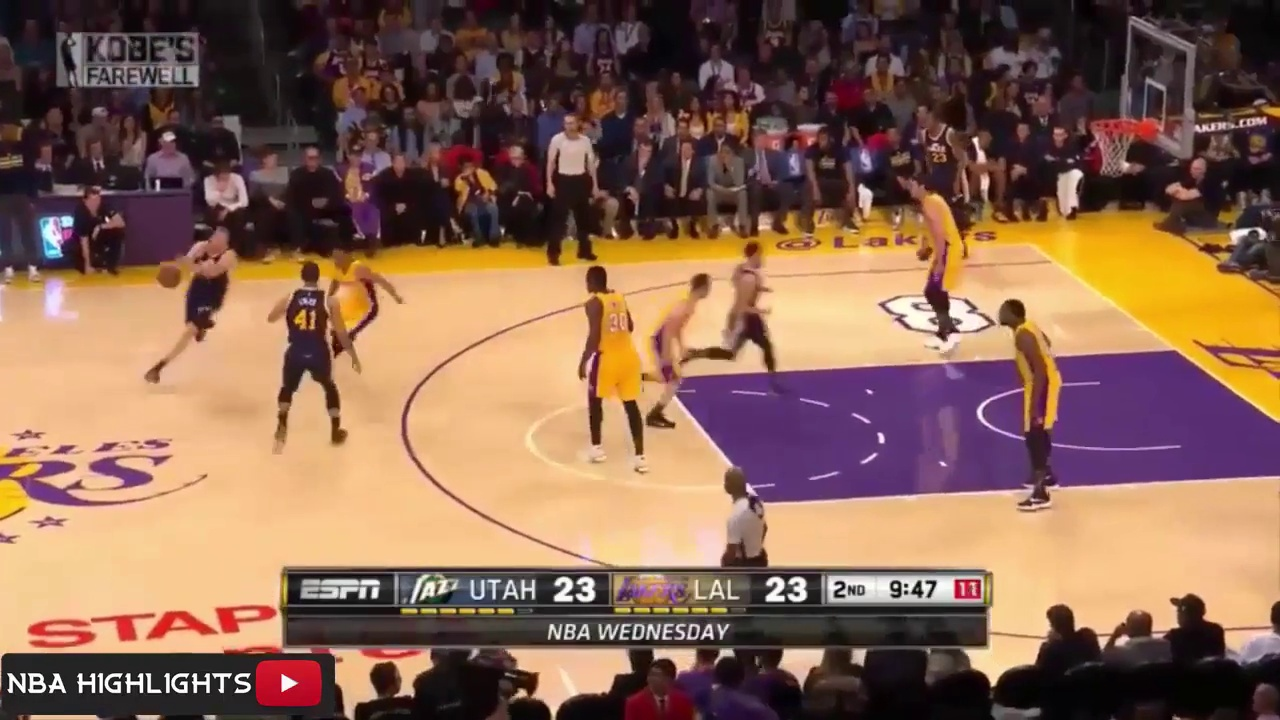jazz: (264, 255, 367, 448), (132, 227, 246, 381), (705, 233, 784, 405), (913, 112, 980, 252)
lakers: (555, 252, 654, 465), (996, 296, 1068, 508), (899, 173, 973, 371), (636, 270, 711, 434), (331, 240, 396, 350)
